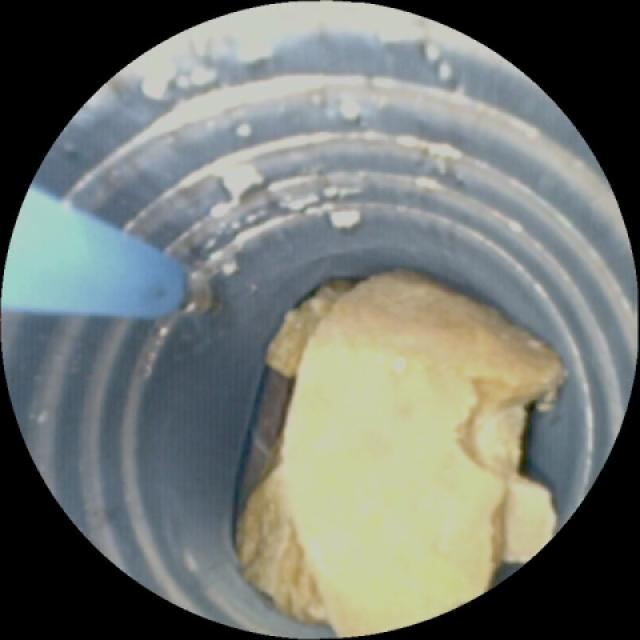fiber: (6, 193, 180, 316)
stone: (240, 278, 559, 634)
